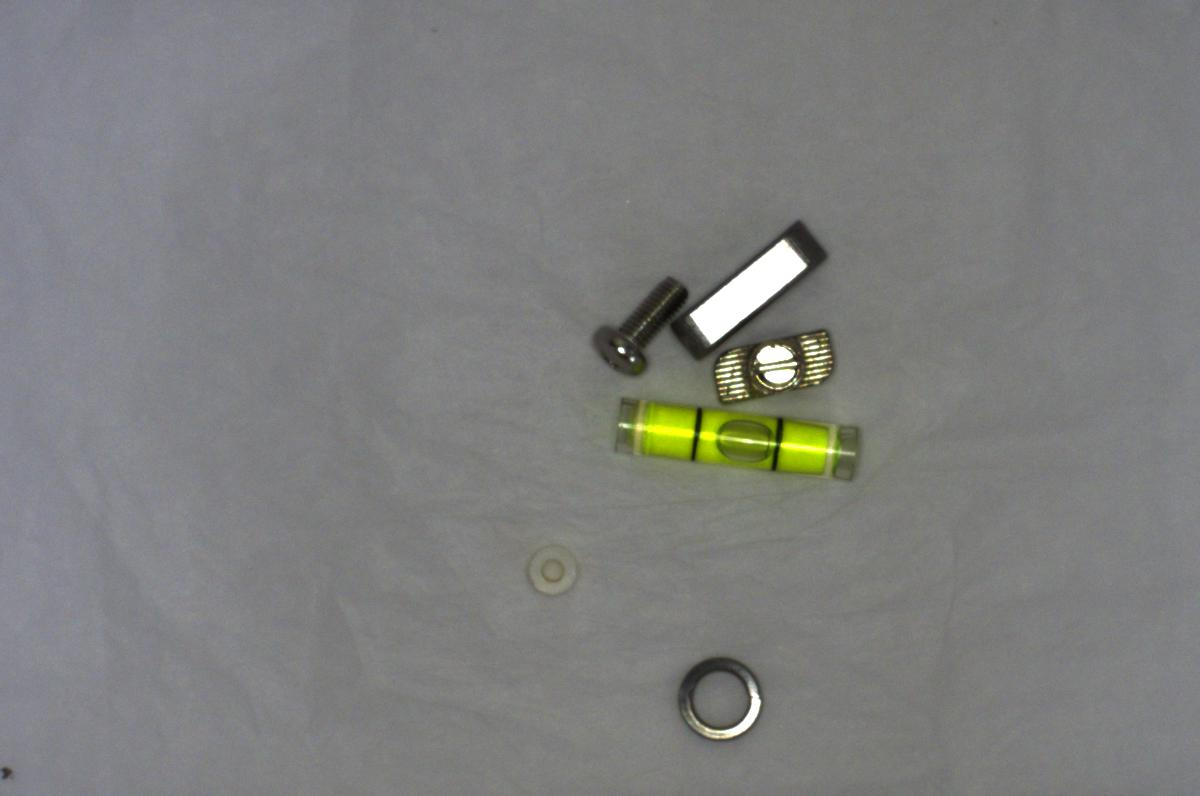Horizontal bubble: (598, 378, 870, 486)
Keybar: (665, 218, 842, 362)
Plastic cushion pillar: (521, 539, 589, 596)
Round head screw: (584, 271, 689, 378)
Spring washer: (665, 646, 774, 750)
T-shaped screw: (703, 324, 838, 408)
